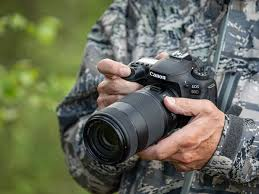camera: (89, 53, 215, 166)
